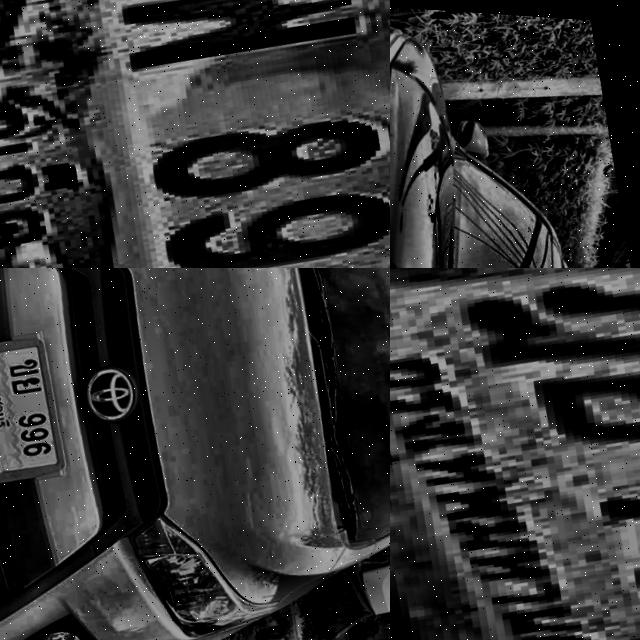license-plate: (0, 0, 390, 268), (390, 268, 640, 640), (0, 324, 85, 493)
